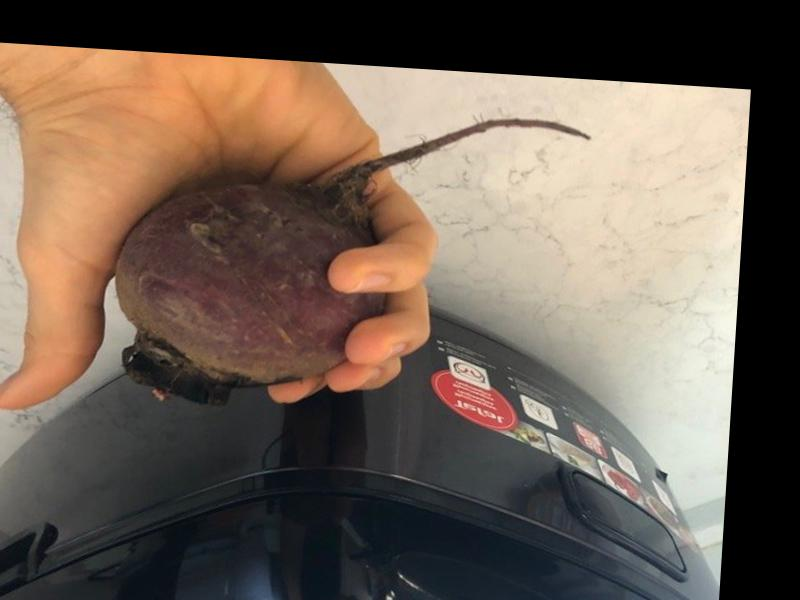Beet: (108, 93, 592, 427)
